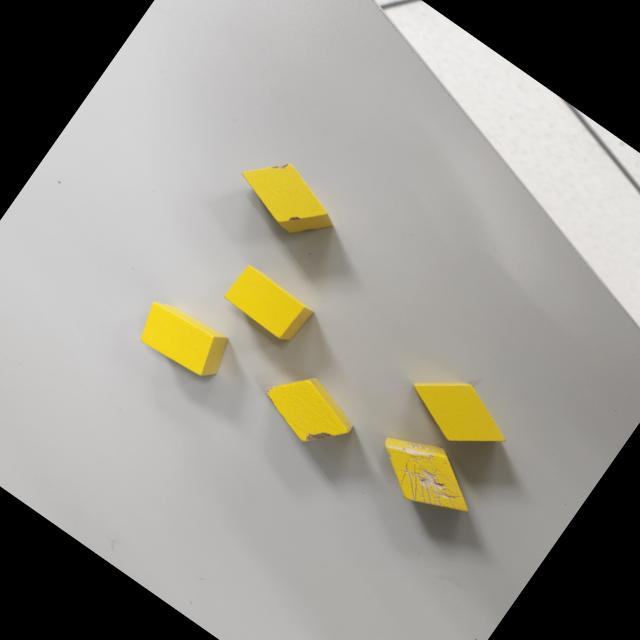broken: (362, 418, 490, 533), (226, 141, 348, 252), (250, 356, 364, 462)
yellow: (398, 354, 524, 469), (128, 290, 235, 387), (218, 259, 318, 348)
